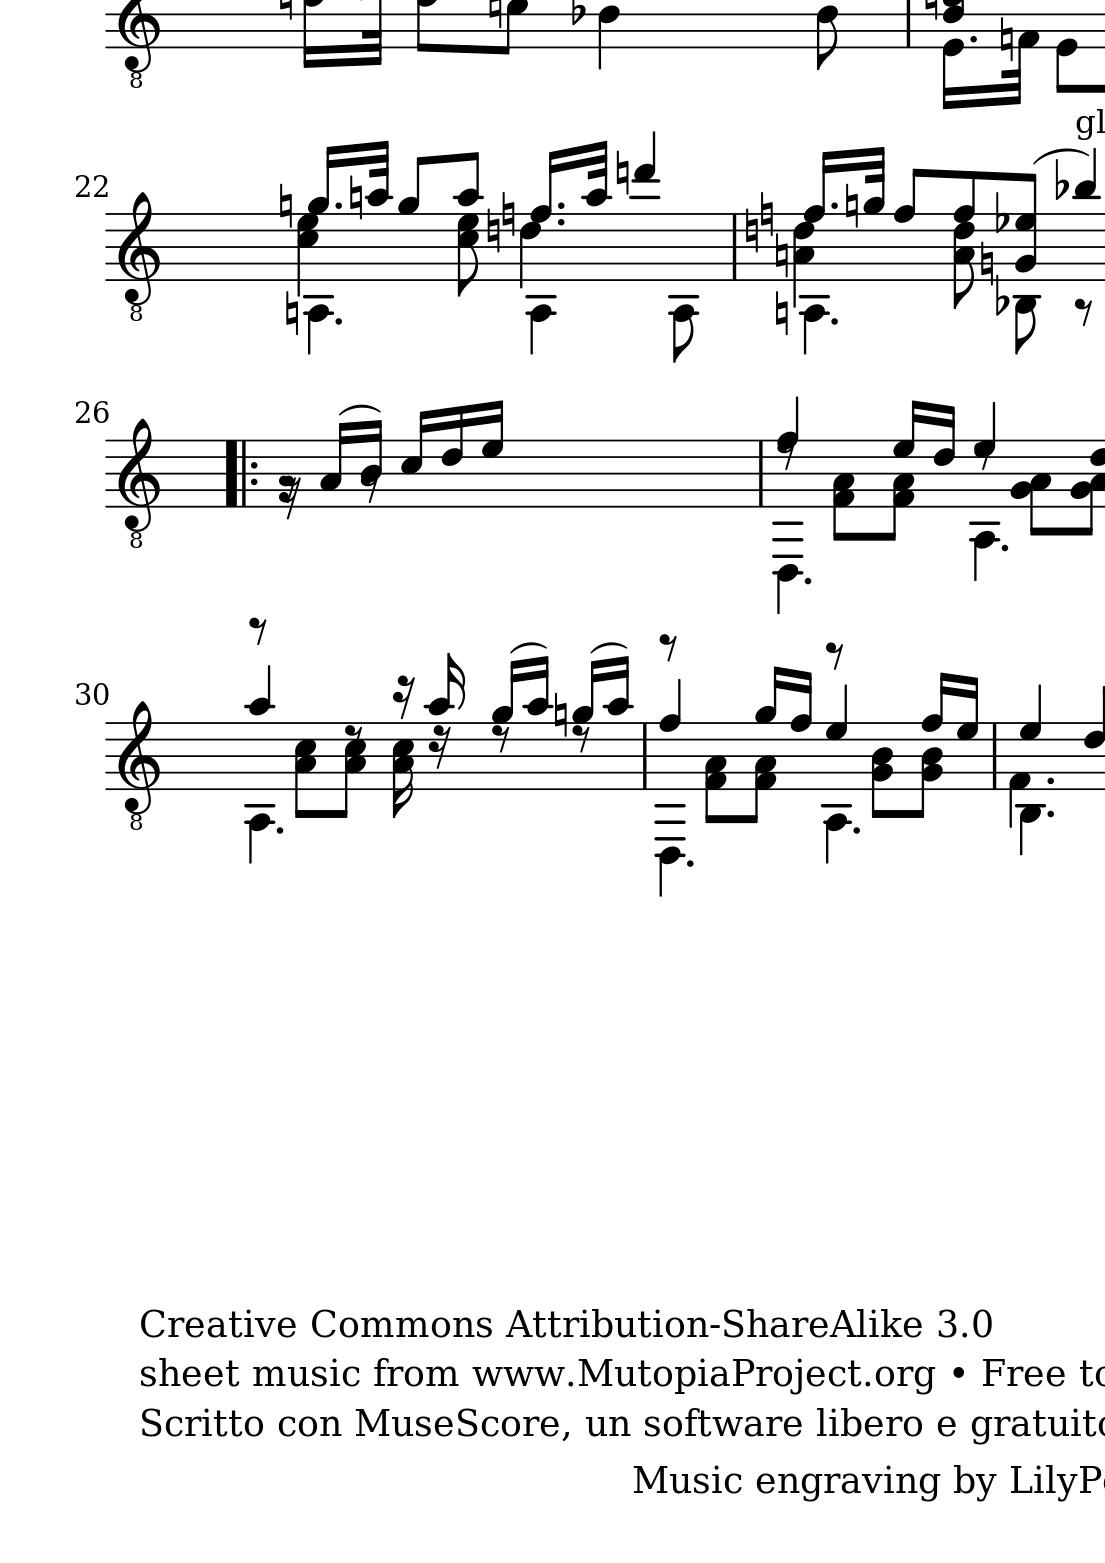0: (92, 680, 108, 708)
16_10: (425, 651, 465, 792), (608, 653, 631, 790), (527, 655, 551, 792)
16_3: (318, 419, 352, 508)
16_3_5: (392, 721, 417, 817)
16_4: (358, 419, 383, 508)
16_5: (398, 408, 432, 509)
16_6: (440, 403, 465, 509), (932, 403, 957, 509)
16_7: (480, 397, 505, 509), (956, 674, 979, 792), (825, 682, 849, 794)
16_8: (789, 668, 813, 793)
16_9: (573, 658, 602, 792), (495, 658, 524, 790)
2: (72, 398, 91, 426), (72, 173, 91, 200), (90, 173, 109, 200)
3: (72, 680, 91, 708)
32_10: (364, 138, 391, 282), (582, 141, 610, 282)
32_9: (862, 144, 886, 283)
4_-4: (822, 721, 854, 863), (245, 719, 276, 866)
4_-8: (655, 719, 686, 899)
4_10: (248, 664, 271, 796)
4_13: (631, 129, 659, 281)
4_5_7: (297, 210, 320, 295)
4_6: (1085, 685, 1105, 792)
4_7: (972, 399, 997, 512)
4_8: (659, 678, 684, 790)
6: (91, 398, 109, 427)
8_-4: (669, 210, 700, 361)
8_11: (1073, 147, 1097, 280)
8_1_3: (747, 721, 776, 823), (704, 719, 729, 826), (832, 439, 856, 541)
8_2_3: (1011, 436, 1055, 536)
8_2_4: (911, 720, 941, 819), (869, 721, 895, 820)
8_2_7: (1017, 171, 1036, 282)
8_3_5: (338, 721, 366, 819), (293, 720, 317, 818)
8_5_7: (456, 210, 481, 298)
8_8: (892, 165, 924, 285)
8_9: (396, 153, 425, 282)
Flat: (993, 190, 1011, 236), (994, 271, 1011, 318), (1052, 155, 1069, 202)
LeftRepeatSign: (225, 438, 260, 508)
Lower_Gclef: (115, 698, 164, 834), (116, 415, 163, 550), (115, 190, 163, 322)
Natural: (483, 201, 500, 255), (282, 288, 300, 337), (773, 288, 790, 337), (843, 181, 860, 232), (500, 189, 515, 244), (276, 182, 293, 232), (347, 173, 364, 222), (999, 14, 1014, 65), (773, 231, 788, 280), (552, 690, 568, 739), (615, 148, 629, 195), (978, 242, 993, 288)
Rests16: (275, 474, 303, 521), (389, 673, 416, 719), (426, 725, 451, 771)
Rests8: (776, 431, 800, 471), (655, 631, 679, 663), (822, 639, 845, 670), (489, 724, 511, 755), (570, 724, 592, 755), (1072, 297, 1093, 326), (246, 613, 267, 645)
Single_barline: (985, 724, 1002, 788), (726, 214, 741, 279), (752, 441, 768, 506), (636, 724, 651, 788)
Slur: (1031, 146, 1091, 169), (338, 402, 381, 419), (509, 640, 547, 655), (590, 640, 625, 655)
dot: (1043, 773, 1056, 787), (555, 200, 568, 213), (332, 200, 344, 213), (555, 216, 568, 228), (1044, 807, 1056, 820), (967, 33, 979, 45), (828, 200, 840, 212), (332, 315, 344, 326), (828, 315, 840, 326), (999, 541, 1011, 552), (273, 824, 285, 836), (850, 824, 862, 836), (801, 575, 812, 587), (684, 857, 695, 869)
